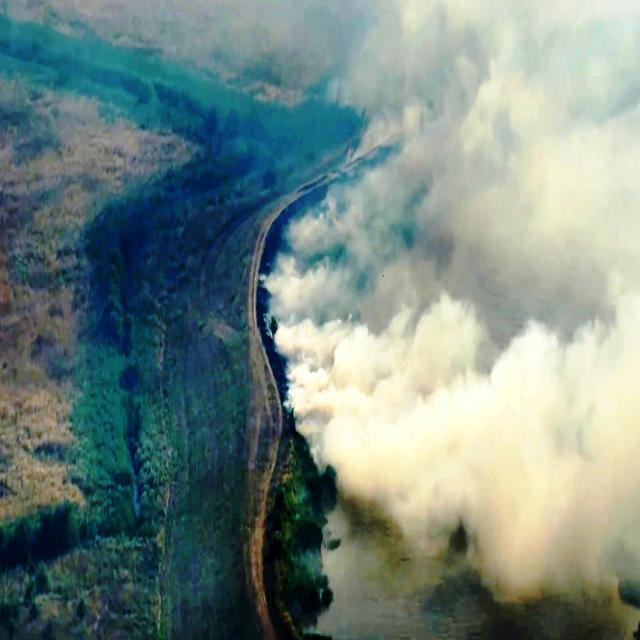Smoke: (392, 136, 580, 418), (314, 333, 411, 494)
